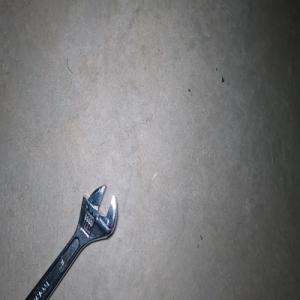Wrench: (24, 184, 117, 300)
